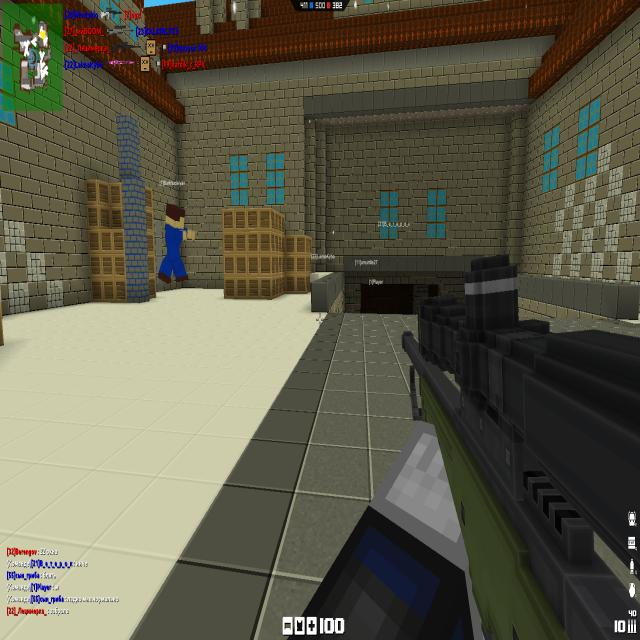player: (157, 202, 195, 289)
